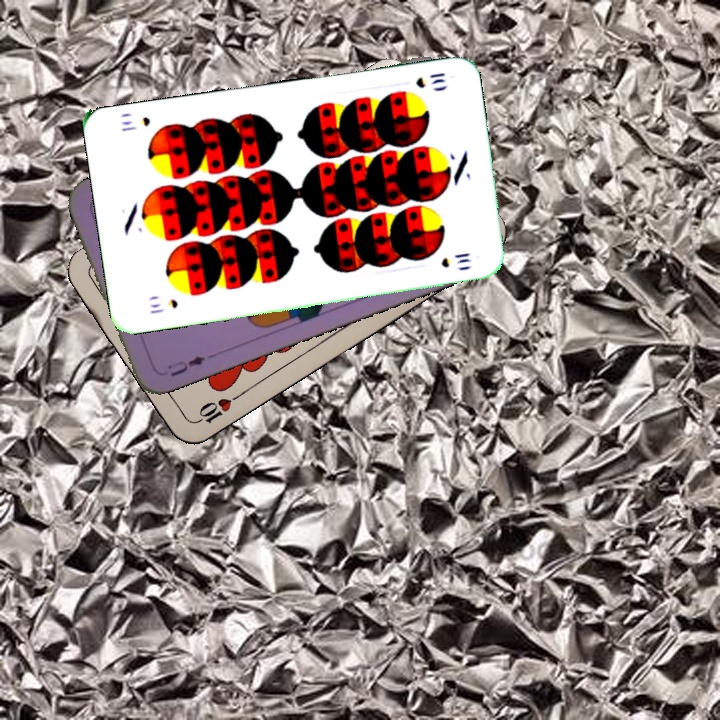EU: (163, 351, 208, 379)
H10: (188, 390, 242, 427)
S10: (411, 68, 448, 91), (146, 295, 181, 317)
